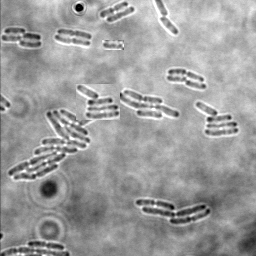Dividing: (167, 67, 204, 81), (99, 1, 128, 18), (54, 34, 90, 47), (56, 28, 92, 39), (27, 239, 64, 249)
Microcolony: (7, 109, 98, 180), (135, 199, 211, 224), (120, 88, 180, 119), (76, 84, 120, 120), (195, 101, 238, 136), (1, 27, 42, 48)
Rod: (106, 5, 135, 23), (157, 16, 178, 34), (184, 79, 206, 89), (102, 40, 124, 50), (166, 73, 187, 82)
